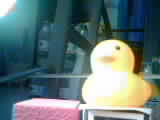duck: (79, 37, 152, 112)
